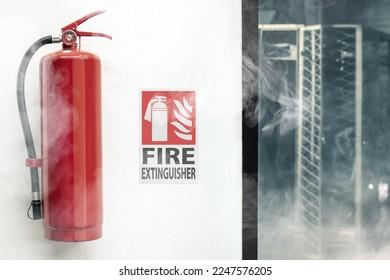wall-mounted: (5, 12, 126, 244)
